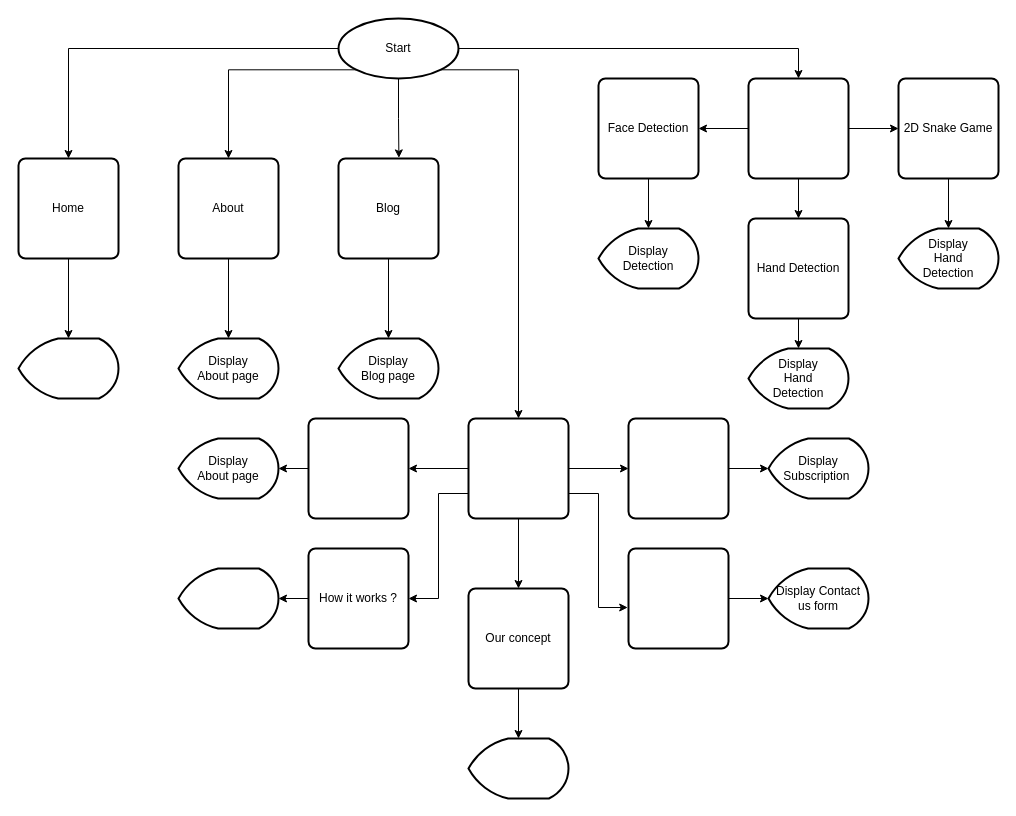
The diagram is 1016 pixels wide and 816 high, and some of its shapes have lost their labels. The shapes that lost their labels are listed below. From the top down, each one's centre as x and y in pixels, then its label:
At point 798,128: "Extras".
At point 68,368: "Display Homepage".
At point 358,468: "About us".
At point 518,468: "Pages".
At point 678,468: "Subscription".
At point 228,598: "Display how it works section".
At point 678,598: "Contact Us".
At point 518,768: "Display Our Concept section".
